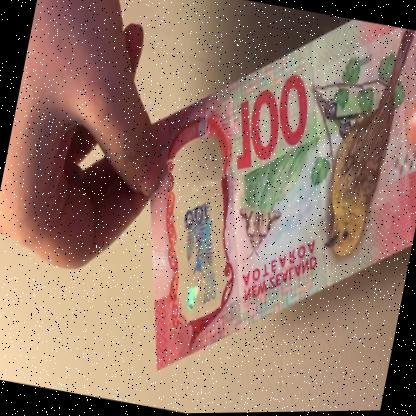100B: (161, 194, 235, 320)
